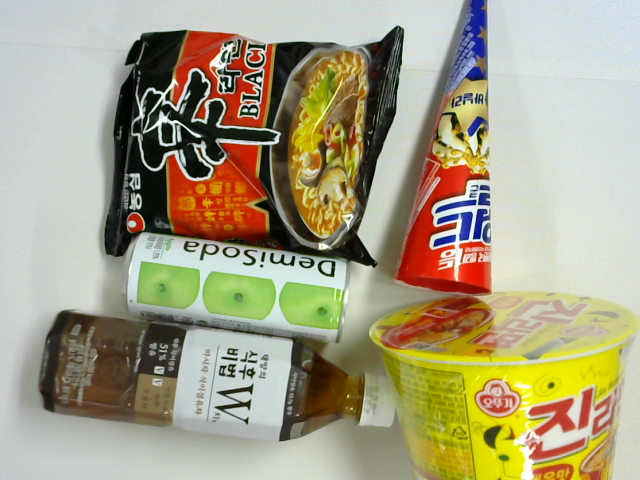Demisoda_Apple_Can_250ml: (123, 227, 354, 344)
Jinlamyeon_Hot_Taste_Large_Cup: (368, 294, 637, 480)
Post-meal_recipe_W_tea_500ml: (37, 306, 404, 446)
Sinramen_Black: (108, 28, 390, 260)
World_Cone_Banila: (392, 1, 496, 297)
